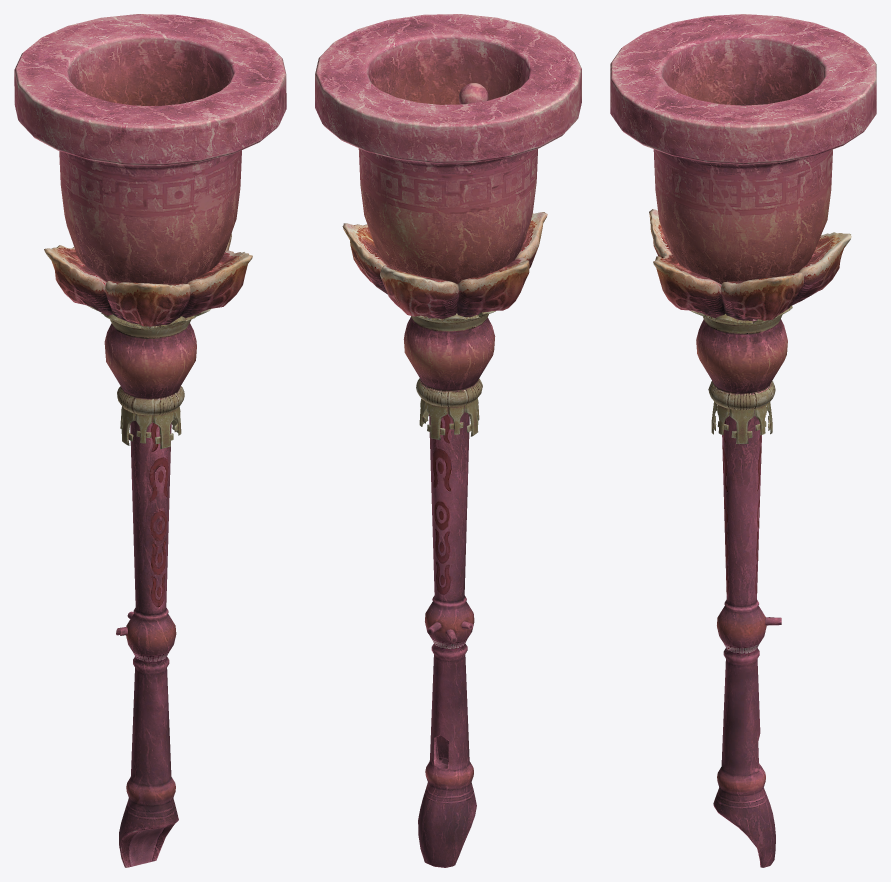
Rendered from hue007.obj.
The picture shows the model from 3 angles, left to right: view 1: azimuth 30°, elevation 25°; view 2: azimuth 150°, elevation 25°; view 3: azimuth 270°, elevation 25°; orthographic projection.
Visible parts, largest first — view 1: hue007_001_LOD_1; view 2: hue007_001_LOD_1, hue007_000_LOD_1; view 3: hue007_001_LOD_1.
Part boxes in pixels (box(x1,y1,x2,y2)): hue007_001_LOD_1: box(14, 14, 286, 867); hue007_001_LOD_1: box(315, 14, 581, 867); hue007_000_LOD_1: box(459, 83, 488, 104); hue007_001_LOD_1: box(610, 14, 876, 867).
Bounding box in the file's own units: 89.63 × 291 × 88.74.
